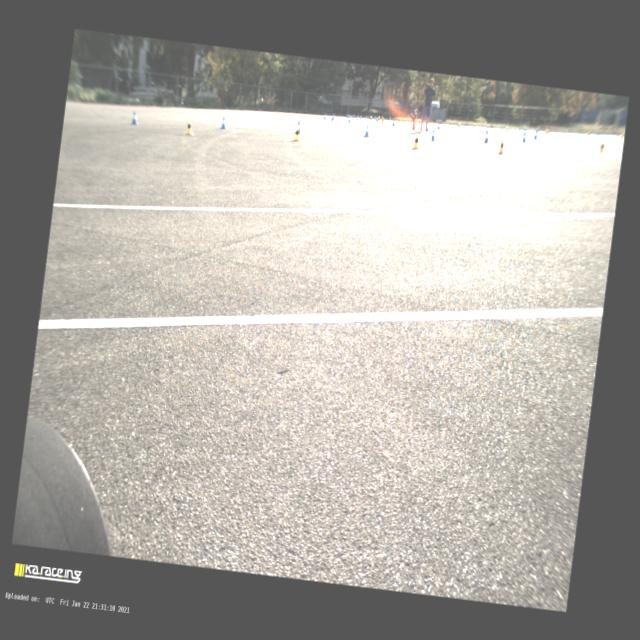blue_cone: (220, 116, 228, 130), (362, 124, 370, 138), (130, 112, 138, 125), (430, 129, 436, 141), (483, 132, 489, 143), (532, 130, 538, 140), (322, 112, 327, 120), (436, 122, 441, 130), (522, 132, 526, 142), (484, 125, 488, 134), (391, 118, 395, 126), (346, 116, 351, 122), (330, 114, 334, 120), (522, 128, 525, 136), (356, 114, 359, 120), (359, 114, 362, 120), (375, 116, 378, 122), (332, 112, 334, 119), (346, 112, 348, 118), (374, 114, 376, 120), (352, 113, 354, 118), (348, 113, 350, 118)
yellow_cone: (185, 118, 195, 134), (292, 125, 302, 141), (412, 134, 421, 150), (498, 138, 504, 154), (418, 118, 422, 125), (369, 114, 372, 122), (377, 114, 380, 122), (381, 116, 384, 124), (456, 122, 459, 130), (388, 116, 391, 122), (380, 116, 382, 120)
